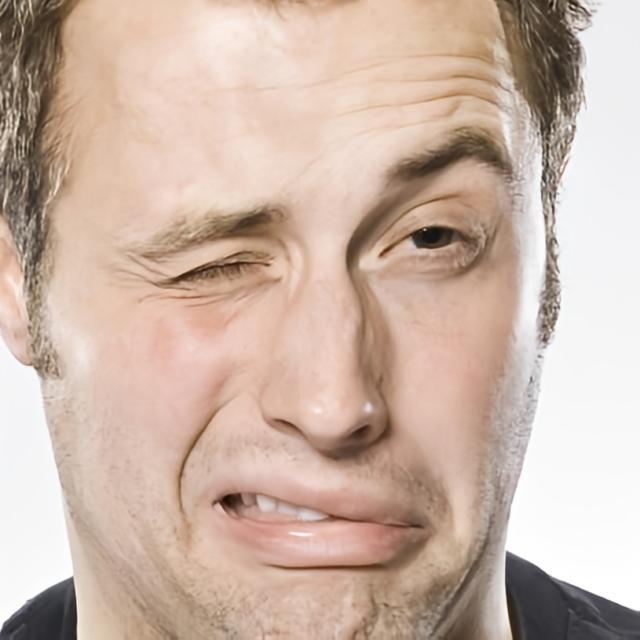disgust: (32, 0, 547, 640)
